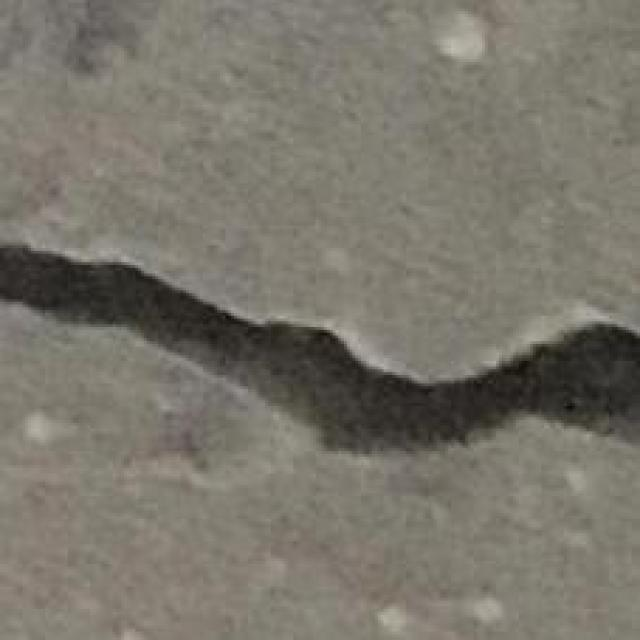Crack: (0, 240, 640, 466)
